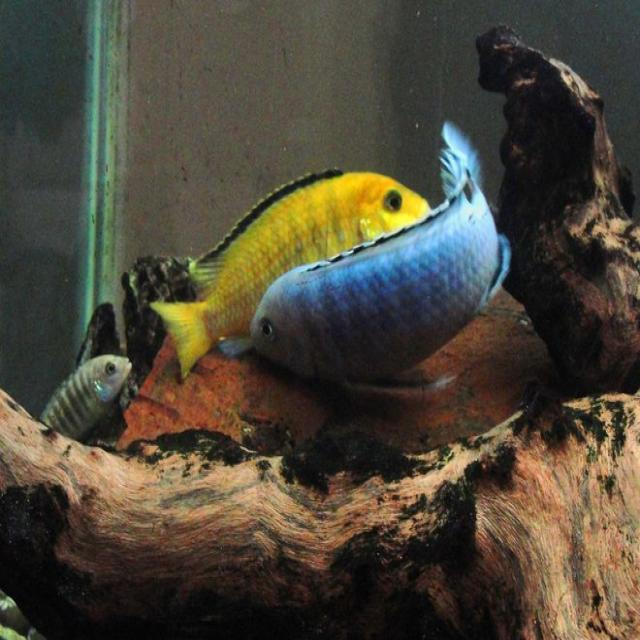YellowCichlid: (148, 158, 432, 333)
